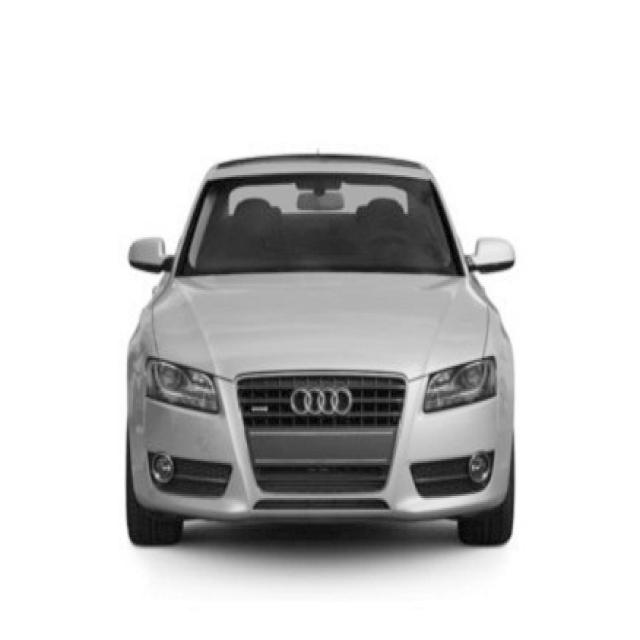car: (124, 150, 516, 548)
